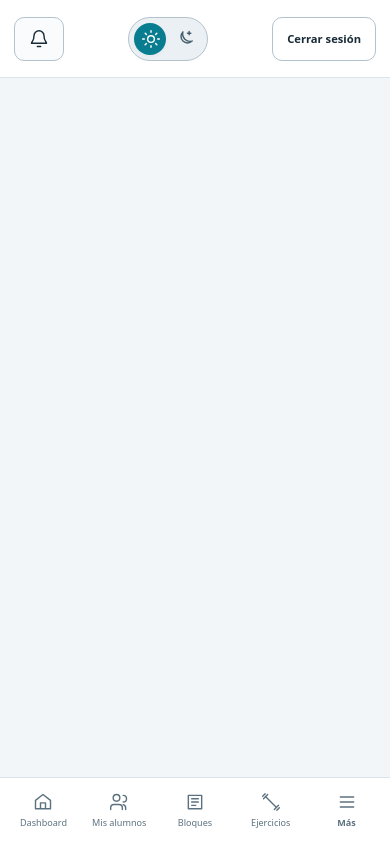
Scenario: Navegación por rol › mantiene acciones secundarias en Más
Click the button "Más" at (347, 811), box [309,785,384,837]
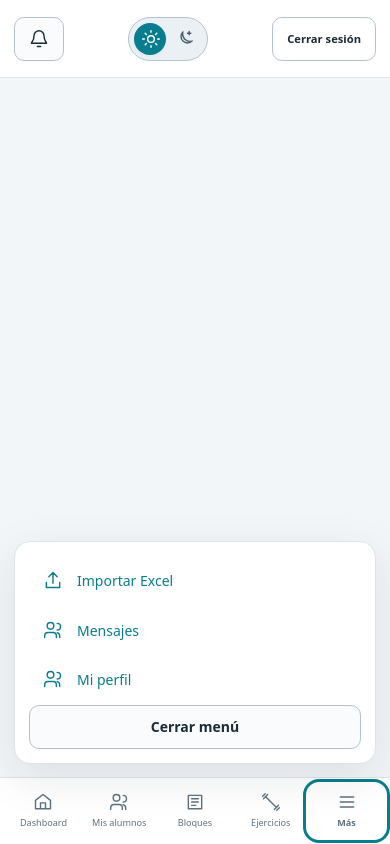
Check: the button "Cerrar menú" is shown, box [29,705,361,749]
